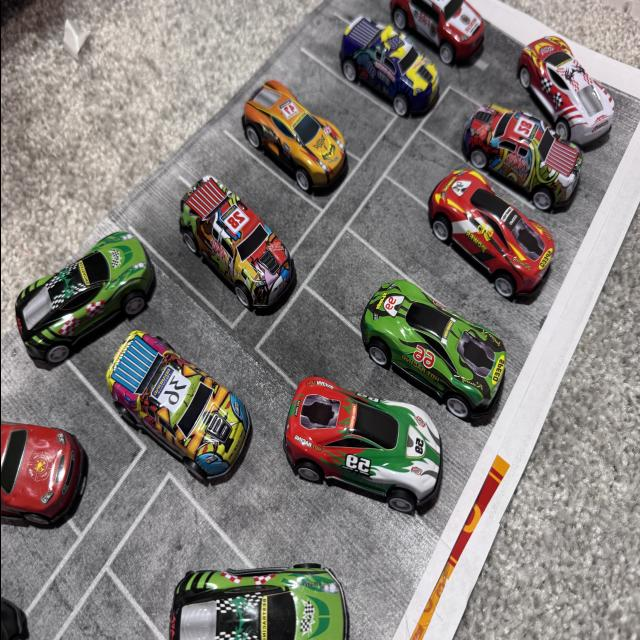car: (147, 137, 323, 368), (87, 331, 249, 498), (292, 370, 466, 524), (374, 255, 512, 417), (429, 168, 557, 326), (0, 364, 94, 578), (2, 222, 160, 346), (146, 562, 365, 640), (243, 70, 358, 218), (464, 84, 587, 208), (528, 11, 622, 165), (336, 0, 434, 138), (400, 1, 502, 76)
